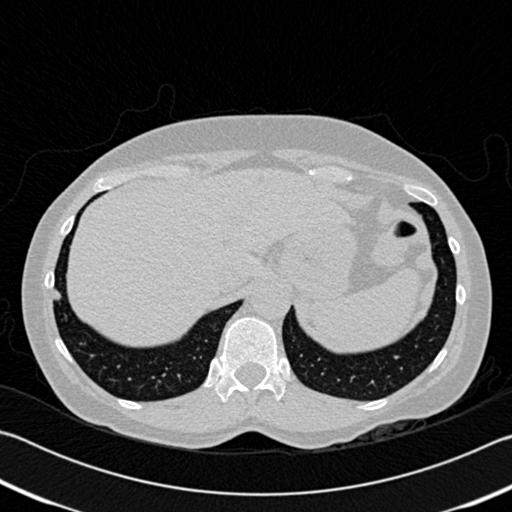nodule: (49, 288, 64, 303)
